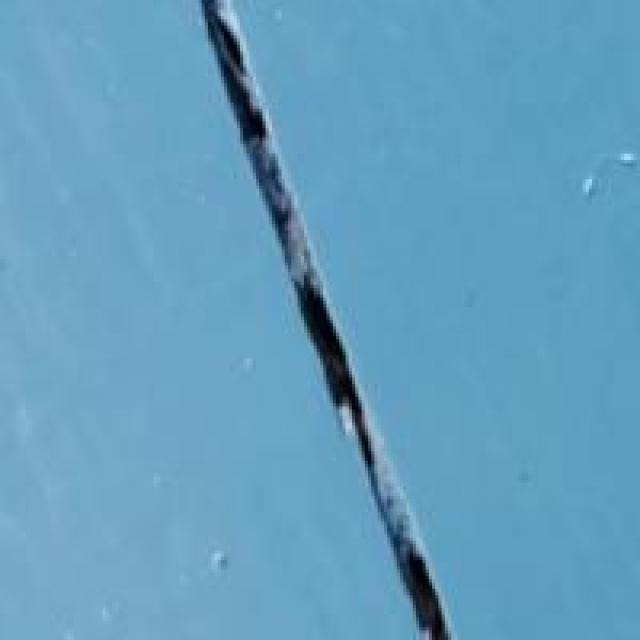crack: (166, 0, 573, 637)
